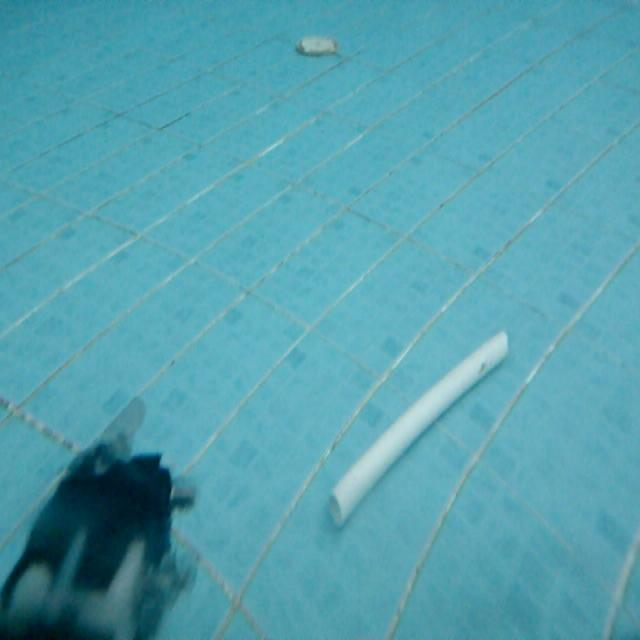Cube: (324, 324, 511, 529)
